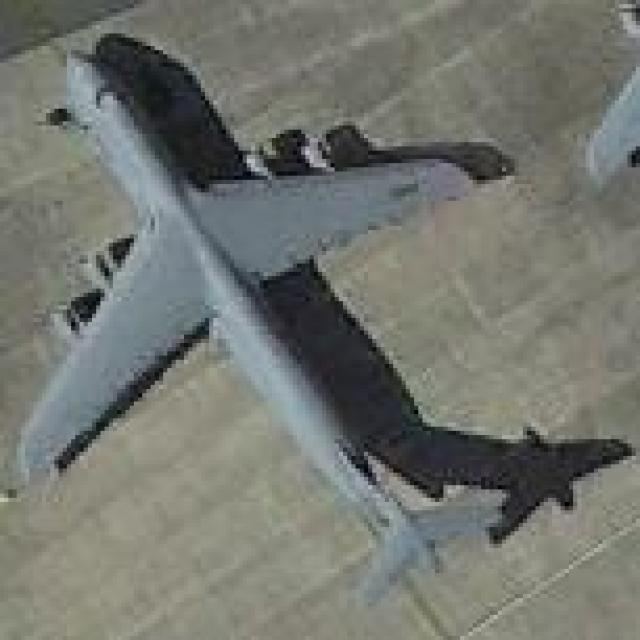C-5_TopDown: (8, 25, 632, 598)
